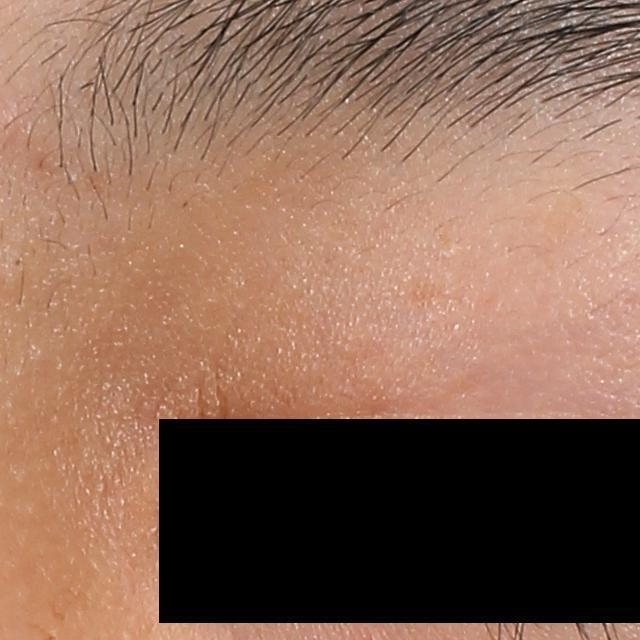comedo: (10, 254, 28, 277)
